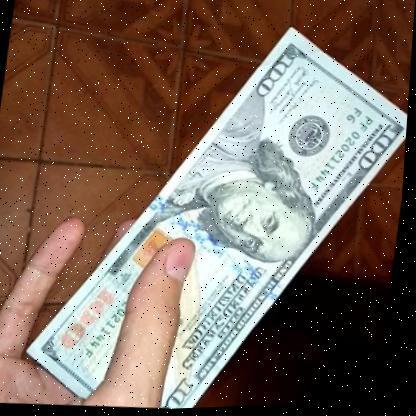one_hundred-front: (21, 1, 416, 415)
